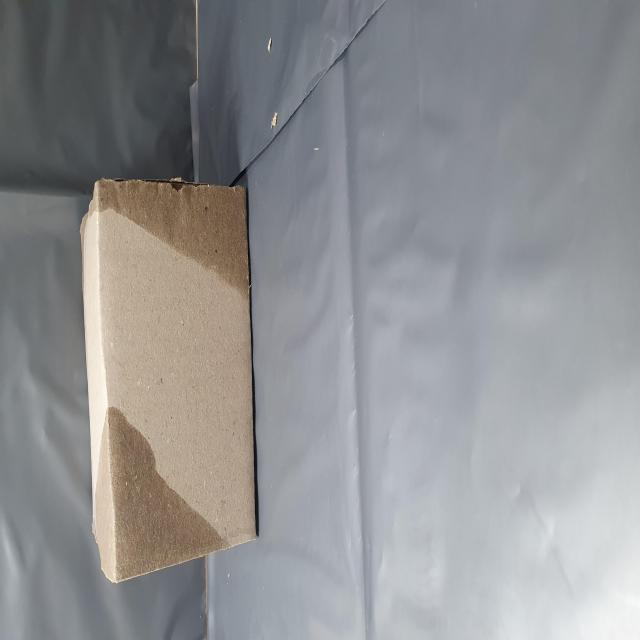wet: (32, 156, 126, 390), (194, 161, 259, 450)
